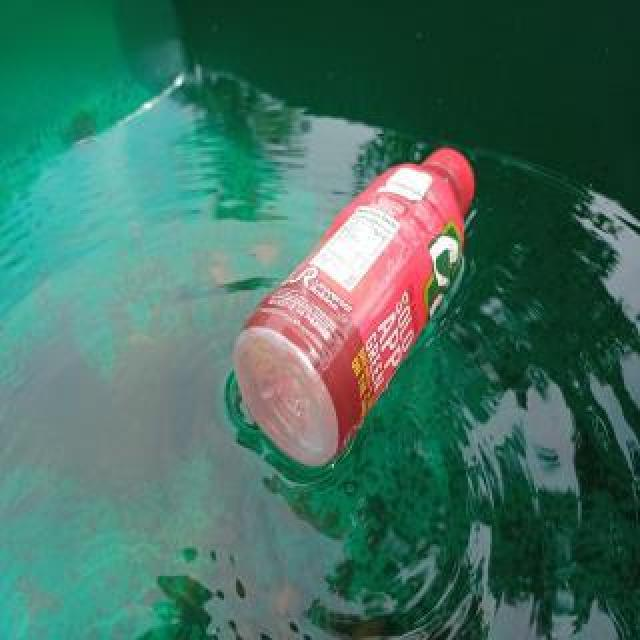Bottle: (232, 144, 480, 472)
